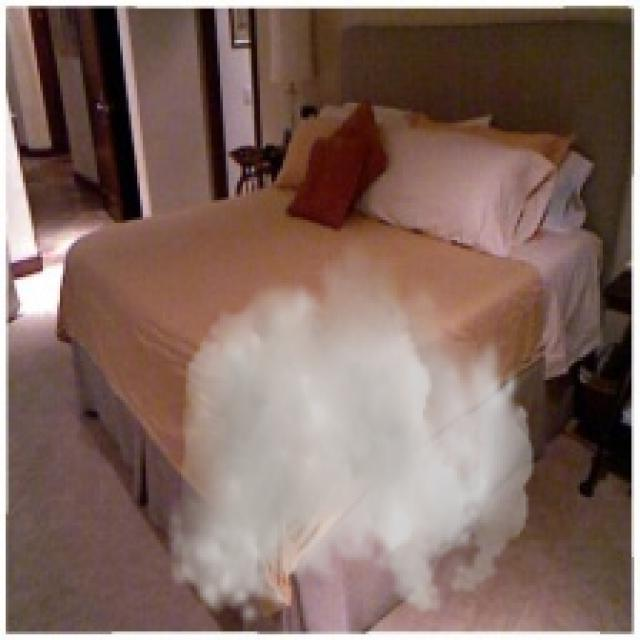smoke: (166, 232, 534, 628)
